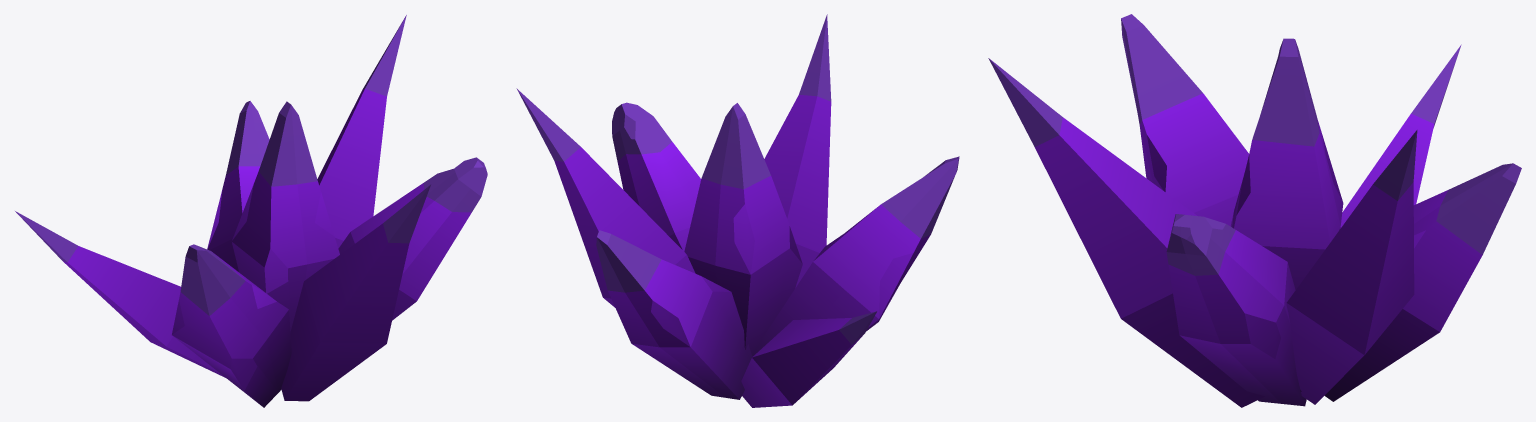
File: crystalchunk01.fbx
3 renders of one model, left to right at view 1: azimuth 30°, elevation 25°; view 2: azimuth 150°, elevation 25°; view 3: azimuth 270°, elevation 25°, orthographic. The views are drawn at different scales.
Visible parts, largest first — view 1: CrystalChunk01; view 2: CrystalChunk01; view 3: CrystalChunk01.
Part boxes in pixels (x1=…): CrystalChunk01: x1=15, y1=15, x2=487, y2=407; CrystalChunk01: x1=516, y1=14, x2=959, y2=407; CrystalChunk01: x1=988, y1=14, x2=1521, y2=407.
Bounding box in the file's own units: 91.99 × 70.38 × 87.79.
